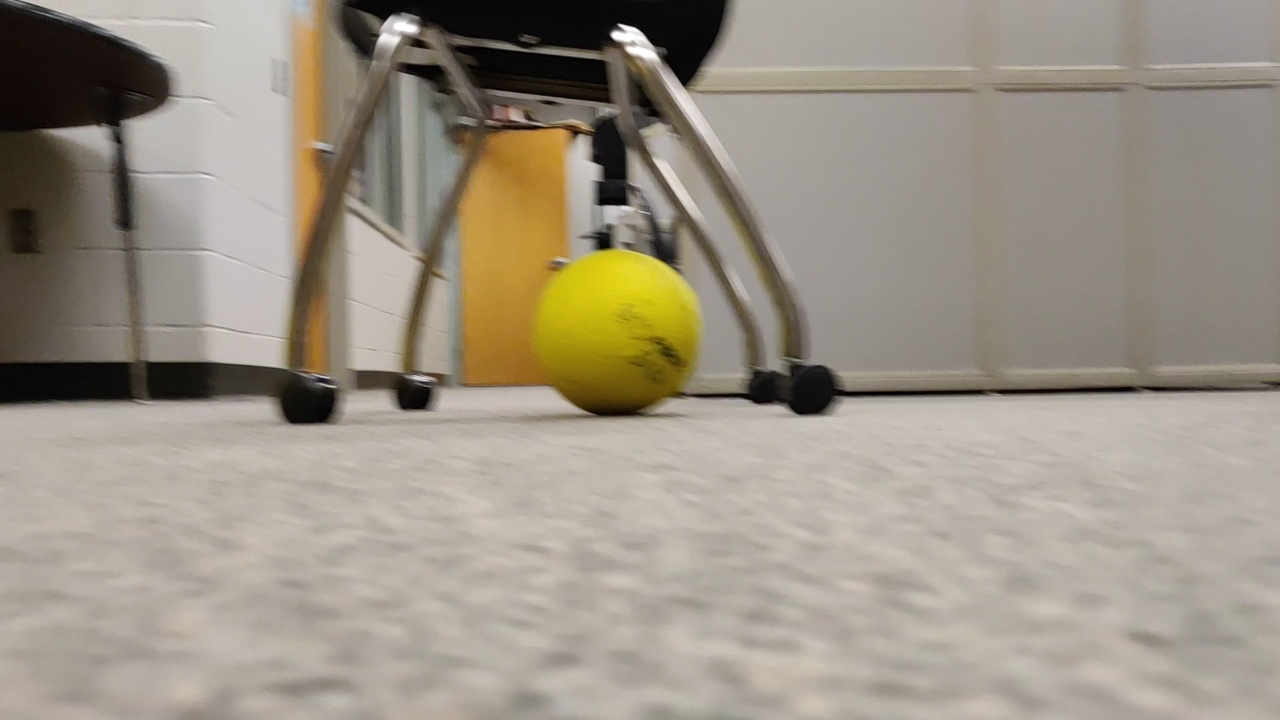Ball: (532, 248, 697, 417)
